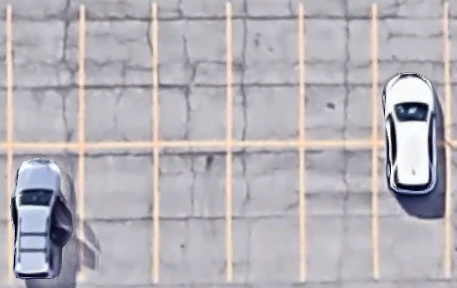Occupied: (374, 5, 448, 143), (374, 143, 448, 279), (9, 145, 82, 281)
Vacant: (227, 4, 302, 145), (153, 5, 229, 144), (8, 5, 82, 147), (227, 143, 303, 281), (154, 144, 230, 281), (81, 5, 155, 145), (302, 142, 377, 280), (81, 144, 155, 281), (301, 5, 375, 142)
